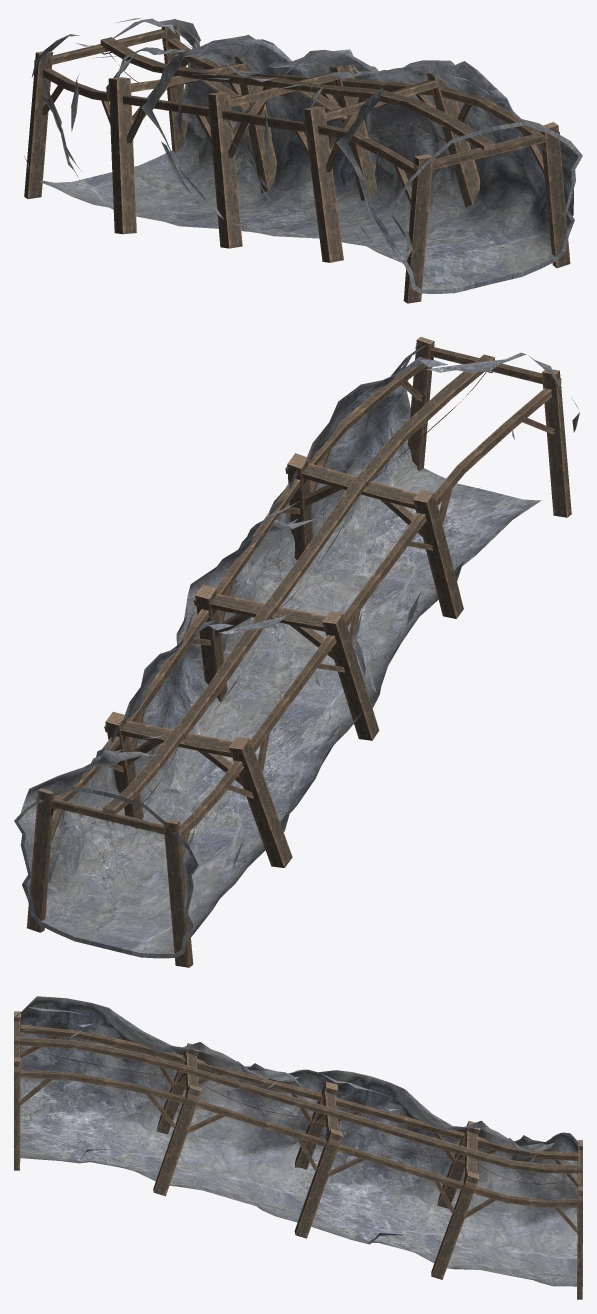
Rendered from mine_tnl_slope.glb.
3 renders of one model, top to bottom at view 1: azimuth 30°, elevation 25°; view 2: azimuth 150°, elevation 25°; view 3: azimuth 270°, elevation 25°, orthographic. The views are drawn at different scales.
Visible parts, largest first — view 1: mine_tnl_slope_LOD0; view 2: mine_tnl_slope_LOD0; view 3: mine_tnl_slope_LOD0.
Boxes of the visible parts, x1=… form: mine_tnl_slope_LOD0: x1=24, y1=18, x2=582, y2=303; mine_tnl_slope_LOD0: x1=14, y1=337, x2=579, y2=967; mine_tnl_slope_LOD0: x1=14, y1=996, x2=582, y2=1299.
Bounding box in the file's own units: 6.82 × 11.74 × 24.
3 materials, 3 textured.
